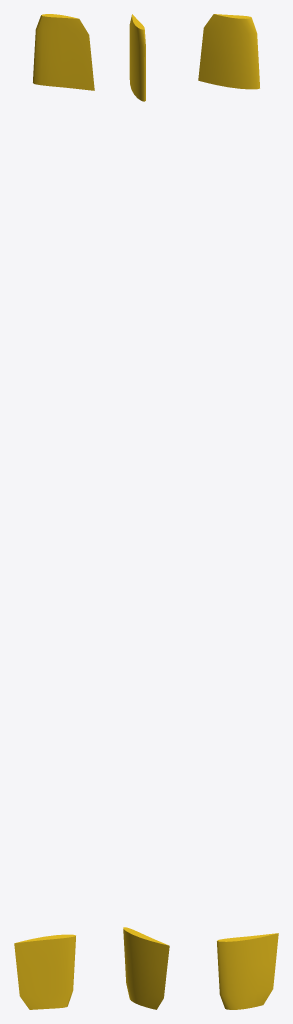
Rendered from left_prop_tips.obj.
3 renders of one model, left to right at view 1: azimuth 90°, elevation 25°; view 2: azimuth 210°, elevation 25°; view 3: azimuth 270°, elevation 25°, orthographic.
Visible parts, largest first — view 1: left_prop_tips; view 2: left_prop_tips; view 3: left_prop_tips.
Part boxes in pixels (box(x1,y1,x2,y2)): left_prop_tips: box(14, 14, 94, 1009); left_prop_tips: box(123, 14, 169, 1009); left_prop_tips: box(198, 14, 278, 1009).
Bounding box in the file's own units: 0.00437 × 0.23 × 0.0169.
